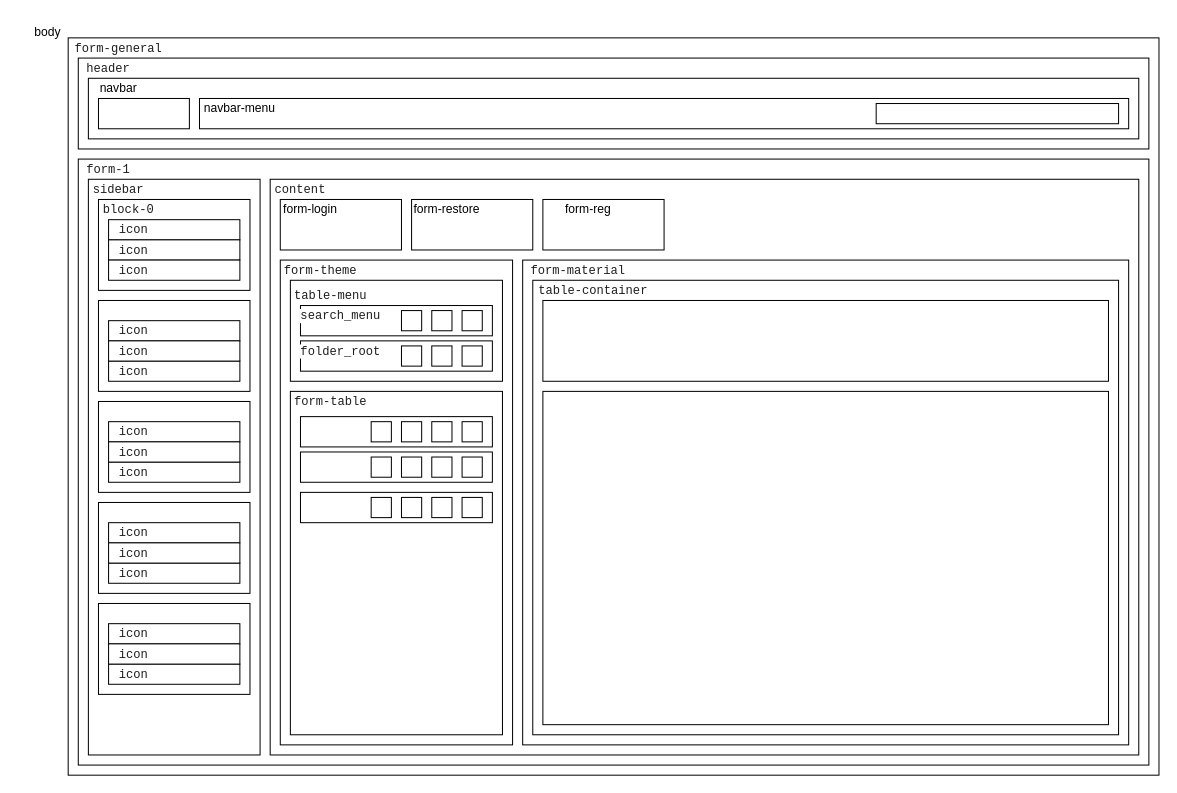
Image size: 1177x793. Some labels were removed from this diagram. The shapes that lost their labels are listed below. From the top down, each one's centre as x and y in pixels, then its label:
[143,113]: logo
[997,113]: menu-user
[825,340]: table-header
[825,557]: table-material
